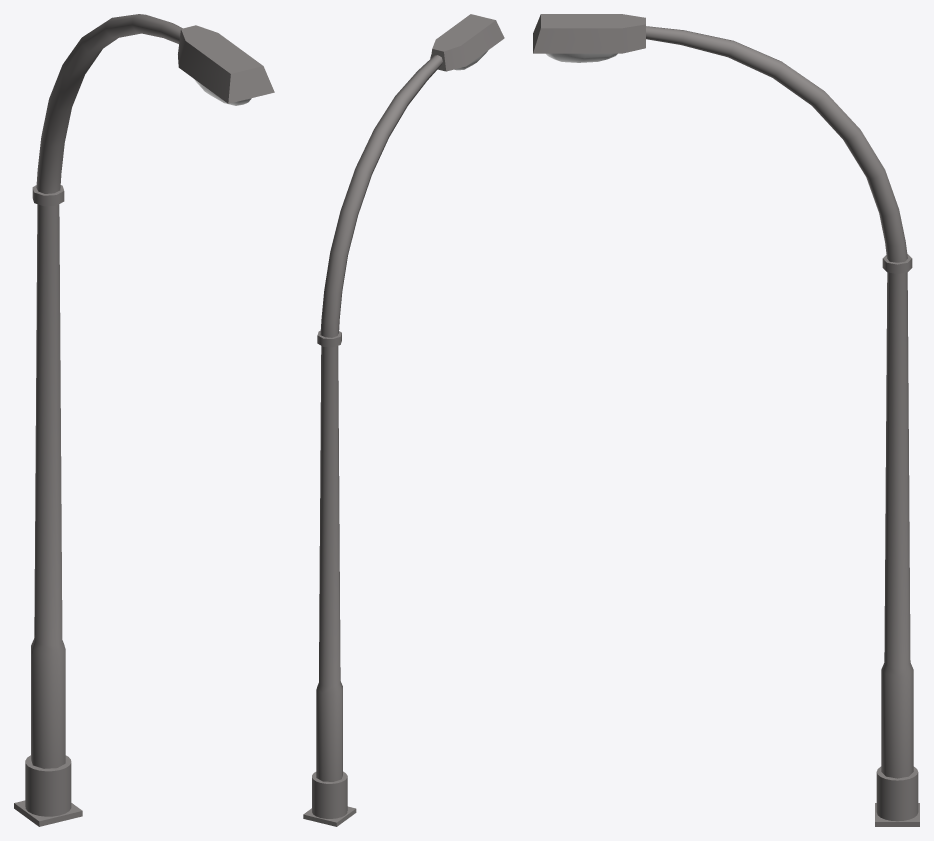
The model's file is Street Light.glb.
3 renders of one model, left to right at view 1: azimuth 30°, elevation 25°; view 2: azimuth 150°, elevation 25°; view 3: azimuth 270°, elevation 25°, orthographic. The views are drawn at different scales.
Visible parts, largest first — view 1: StreetLights; view 2: StreetLights; view 3: StreetLights.
Part boxes in pixels (x1,y1,x2,y2): StreetLights: [14, 14, 274, 826]; StreetLights: [303, 14, 504, 826]; StreetLights: [533, 14, 919, 826].
Size of the model in its own units: 0.3643 by 6.64 by 2.93.
Materials: 2 (1 with a texture image).
